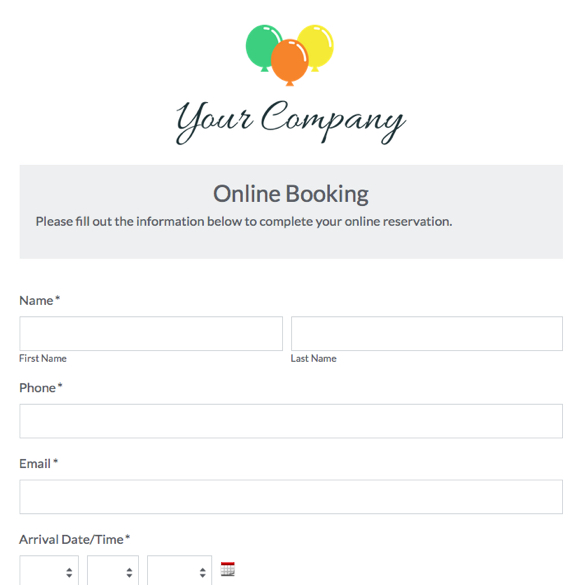textbox: (283, 305, 567, 367), (13, 311, 288, 365), (15, 549, 88, 584)
